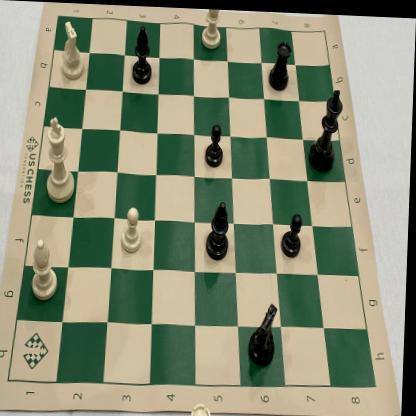black-bishop: (126, 16, 160, 88), (206, 195, 234, 263)
black-king: (305, 80, 348, 172)
black-knight: (247, 297, 288, 371)
black-pawn: (280, 206, 308, 260), (203, 118, 228, 170)
black-rook: (267, 32, 296, 95)
white-bishop: (29, 234, 62, 304), (198, 8, 226, 50)
white-king: (41, 112, 84, 207)
white-knight: (56, 11, 90, 86)
white-pawn: (120, 201, 148, 256)
